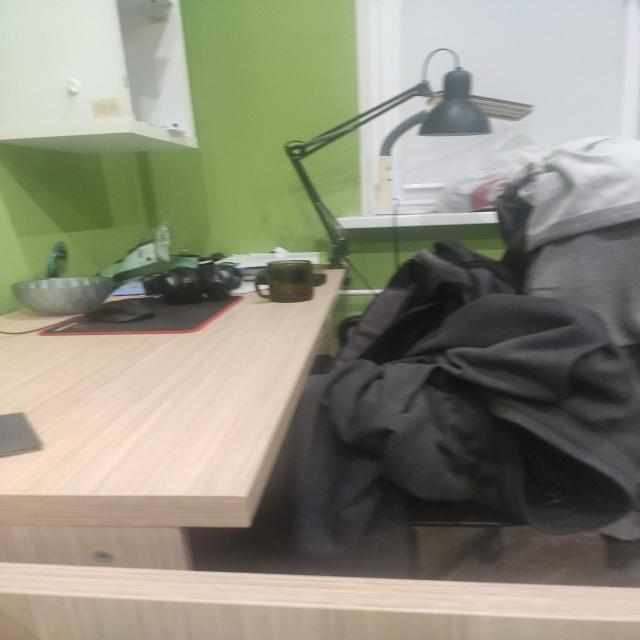cups: (256, 260, 313, 303)
